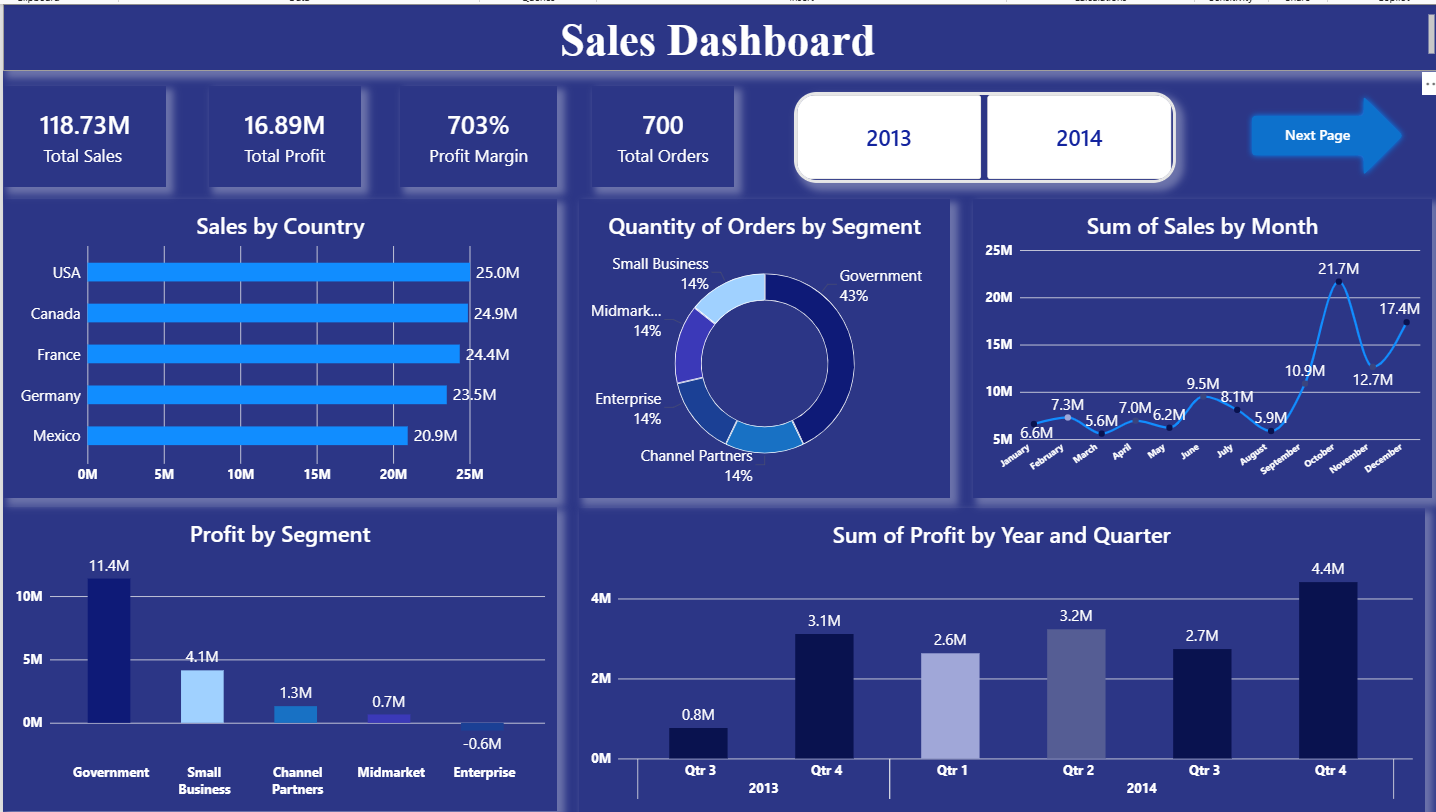

The dashboard page shown, as its layout file describes it:
{"tool":"powerbi","page":{"name":"Q.9","canvas":[1920,1080],"ordinal":0},"visuals":[{"type":"textbox","box":[0,0,1920,89.2],"z":0},{"type":"card","fields":{"Values":["Finnace Measures.Total Sales - Finince"]},"box":[1.5,109.2,215.4,133.8],"z":1000},{"type":"card","fields":{"Values":["Finnace Measures.Profit Margin"]},"box":[527.7,109.2,209.2,133.8],"z":2000},{"type":"card","fields":{"Values":["Finnace Measures.Total Profit- Finince"]},"box":[273.8,109.2,201.5,133.8],"z":3000},{"type":"card","fields":{"Values":["Finnace Measures.Total Orders"]},"box":[783.1,109.2,189.2,133.8],"z":4000},{"type":"clusteredBarChart","title":"Sales by Country","fields":{"Category":["Sheet1- Finance.Country"],"Y":["Sum(Sheet1- Finance. Sales)"]},"box":[1.5,260,735.4,398.5],"z":5000},{"type":"columnChart","title":"Profit by Segment","fields":{"Category":["Sheet1- Finance.Segment"],"Y":["Sum(Sheet1- Finance.Profit)"]},"box":[0,669.2,736.9,404.6],"z":6000},{"type":"donutChart","title":"Quantity of Orders by Segment","fields":{"Category":["Sheet1- Finance.Segment"],"Y":["Finnace Measures.Total Orders"]},"box":[766.2,260,493.8,398.5],"z":7000},{"type":"clusteredColumnChart","fields":{"Category":["Sheet1- Finance.Date.Variation.Date Hierarchy.Year","Sheet1- Finance.Date.Variation.Date Hierarchy.Quarter","Sheet1- Finance.Date.Variation.Date Hierarchy.Month"],"Y":["Sum(Sheet1- Finance.Profit)"]},"box":[766.2,670.8,1124.6,409.2],"z":8000},{"type":"advancedSlicerVisual","fields":{"Values":["Sheet1- Finance.Date.Variation.Date Hierarchy.Year"]},"box":[1052.2,116.4,508,120.9],"z":9000},{"type":"lineChart","fields":{"Category":["Sheet1- Finance.Date.Variation.Date Hierarchy.Month"],"Y":["Sum(Sheet1- Finance. Sales)"]},"box":[1290.8,260,610.8,398.5],"z":10000},{"type":"actionButton","box":[1653.8,113.8,216.9,121.5],"z":11000}]}

Visuals, with their boxes on the page's 1920x1080 design canvas (x1, y1, x2, y2). These are canvas units, not pixel positions in the 1436x812 screenshot, which may show the page scaled, cropped or inside an application window:
textbox: <region>0, 0, 1920, 89</region>
card - Finnace Measures.Total Sales - Finince: <region>2, 109, 217, 243</region>
card - Finnace Measures.Profit Margin: <region>528, 109, 737, 243</region>
card - Finnace Measures.Total Profit- Finince: <region>274, 109, 475, 243</region>
card - Finnace Measures.Total Orders: <region>783, 109, 972, 243</region>
"Sales by Country" clusteredBarChart: <region>2, 260, 737, 658</region>
"Profit by Segment" columnChart: <region>0, 669, 737, 1074</region>
"Quantity of Orders by Segment" donutChart: <region>766, 260, 1260, 658</region>
clusteredColumnChart - Sheet1- Finance.Date.Variation.Date Hierarchy.Year x Sheet1- Finance.Date.Variation.Date Hierarchy.Quarter: <region>766, 671, 1891, 1080</region>
advancedSlicerVisual - Sheet1- Finance.Date.Variation.Date Hierarchy.Year: <region>1052, 116, 1560, 237</region>
lineChart - Sheet1- Finance.Date.Variation.Date Hierarchy.Month x Sum(Sheet1- Finance. Sales): <region>1291, 260, 1902, 658</region>
actionButton: <region>1654, 114, 1871, 235</region>
